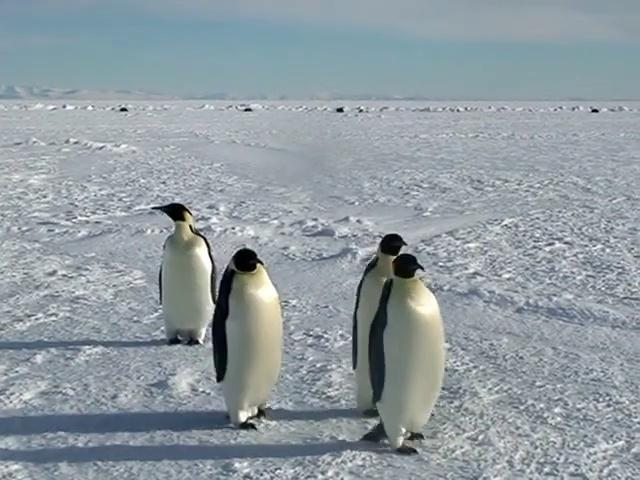animal: (362, 255, 446, 455)
